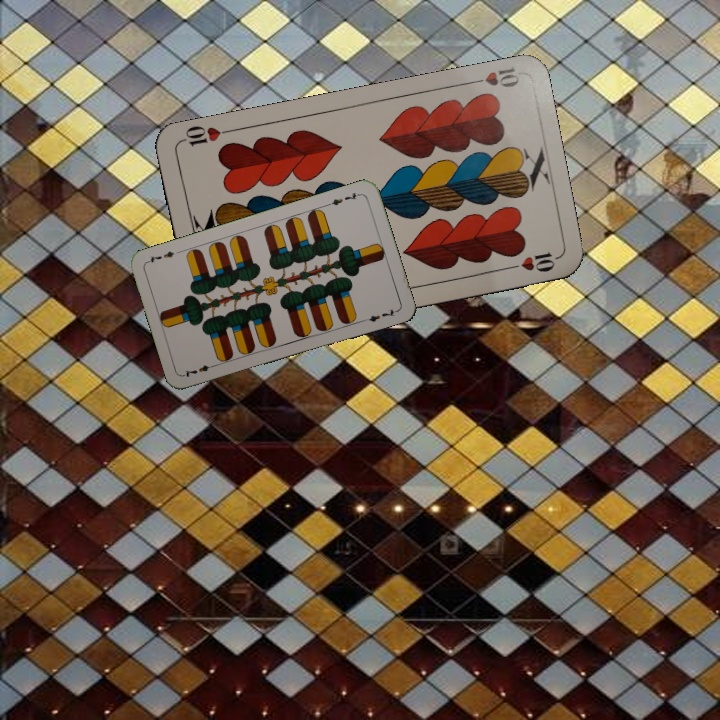E7: (180, 360, 220, 380), (324, 189, 364, 208)
H10: (463, 63, 522, 90)
